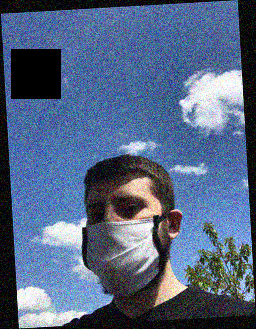with_mask: (81, 188, 163, 298)
